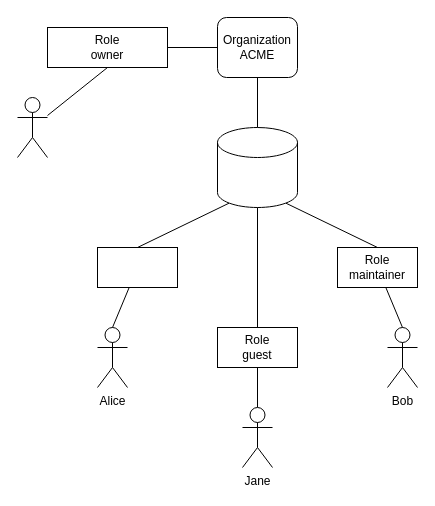
Some shapes in this 435 by 506 pixel diagram are drawn without their labels. Here are the shapes that lost their labels. From the top down, the box of each, then its label:
(16, 96, 48, 158): Tom
(216, 126, 298, 208): Repository ACME App
(96, 246, 178, 288): Role contributor
